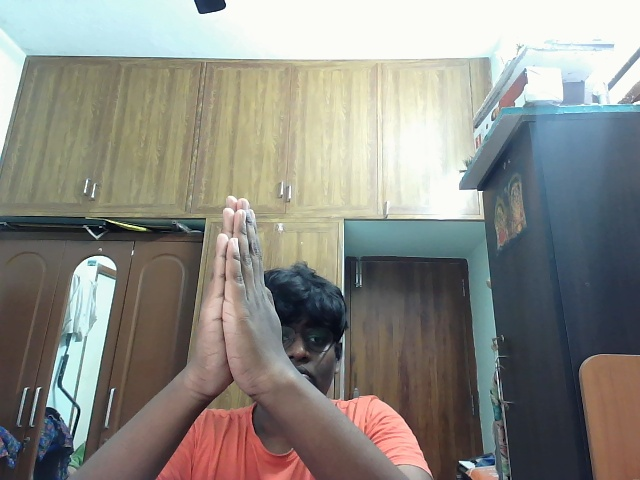Sign: (199, 195, 289, 418)
